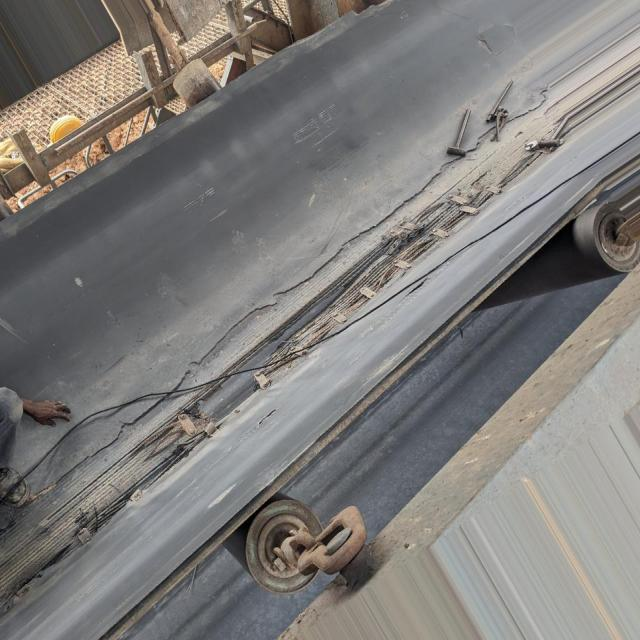Human: (0, 383, 79, 500)
Roller: (472, 202, 640, 317), (224, 487, 325, 595), (171, 60, 218, 107)
Tear: (0, 112, 548, 627)
